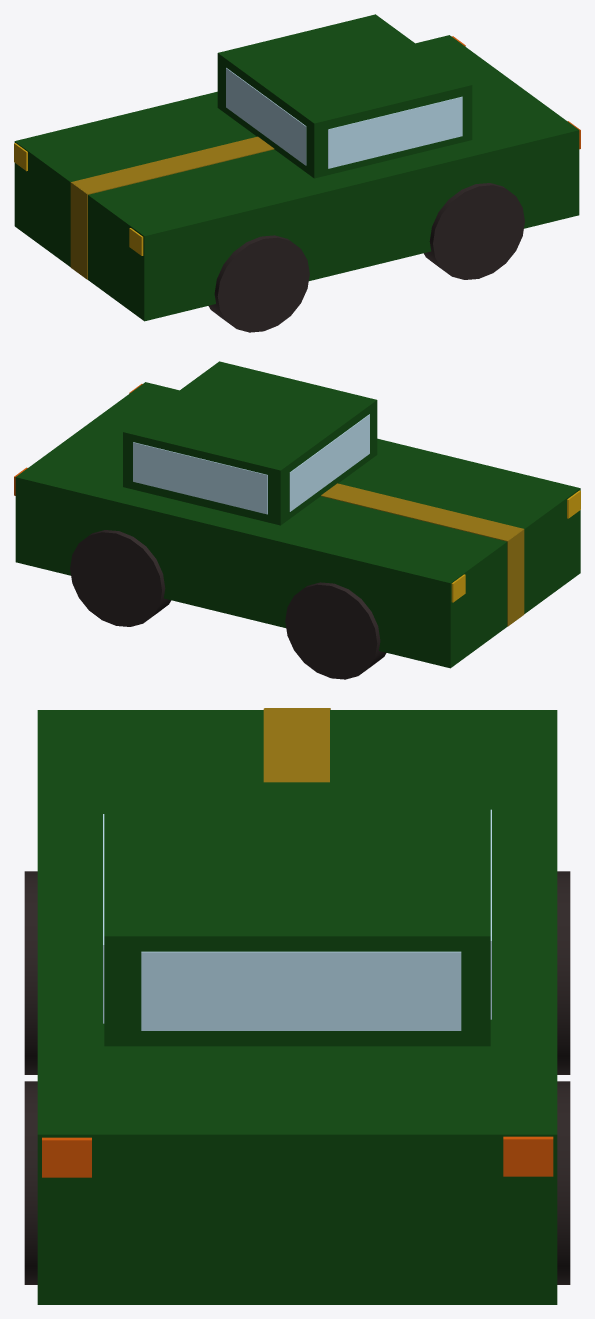
Rendered from obstacle2.fbx.
The picture shows the model from 3 angles, top to bottom: view 1: azimuth 30°, elevation 25°; view 2: azimuth 150°, elevation 25°; view 3: azimuth 270°, elevation 25°; orthographic projection. The views are drawn at different scales.
Parts seen in each view (by area): view 1: RaceCar; view 2: RaceCar; view 3: RaceCar.
Boxes of the visible parts, <box> form: RaceCar: <box>14,14,580,332</box>; RaceCar: <box>14,361,580,679</box>; RaceCar: <box>24,708,570,1304</box>.
Size of the model in its own units: 9988 by 3826 by 5370.
6 materials, 6 textured.
